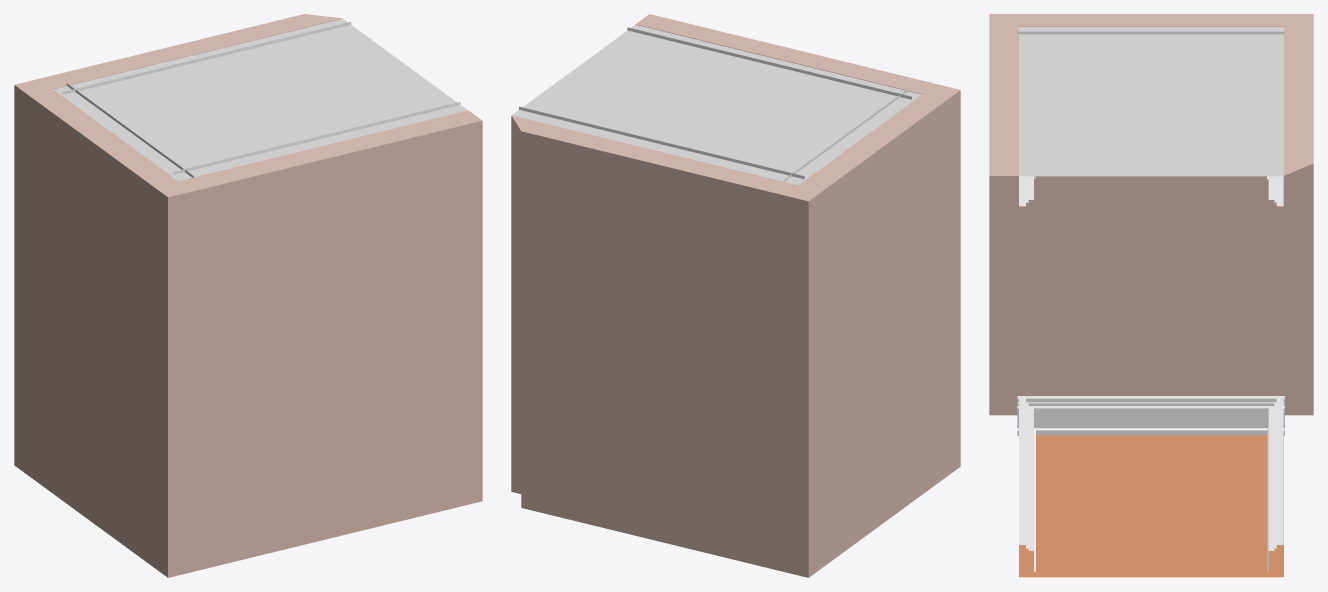
File: hallwayend.fbx
3 renders of one model, left to right at view 1: azimuth 30°, elevation 25°; view 2: azimuth 150°, elevation 25°; view 3: azimuth 270°, elevation 25°, orthographic. The views are drawn at different scales.
Parts seen in each view (by area): view 1: SideWall, EndWall, Ceiling.001; view 2: SideWall, EndWall, Ceiling.001; view 3: EndWall, Ceiling.001, Floor.001, SideWall.
Part boxes in pixels (x1=…): SideWall: x1=15, y1=14, x2=482, y2=577; EndWall: x1=14, y1=83, x2=193, y2=577; Ceiling.001: x1=53, y1=19, x2=467, y2=180; SideWall: x1=511, y1=14, x2=959, y2=577; EndWall: x1=783, y1=88, x2=960, y2=577; Ceiling.001: x1=512, y1=24, x2=921, y2=185; EndWall: x1=989, y1=14, x2=1313, y2=435; Ceiling.001: x1=1019, y1=27, x2=1283, y2=176; Floor.001: x1=1019, y1=435, x2=1283, y2=577; SideWall: x1=989, y1=14, x2=1313, y2=571.
Size of the model in its own units: 366 by 504 by 432.
